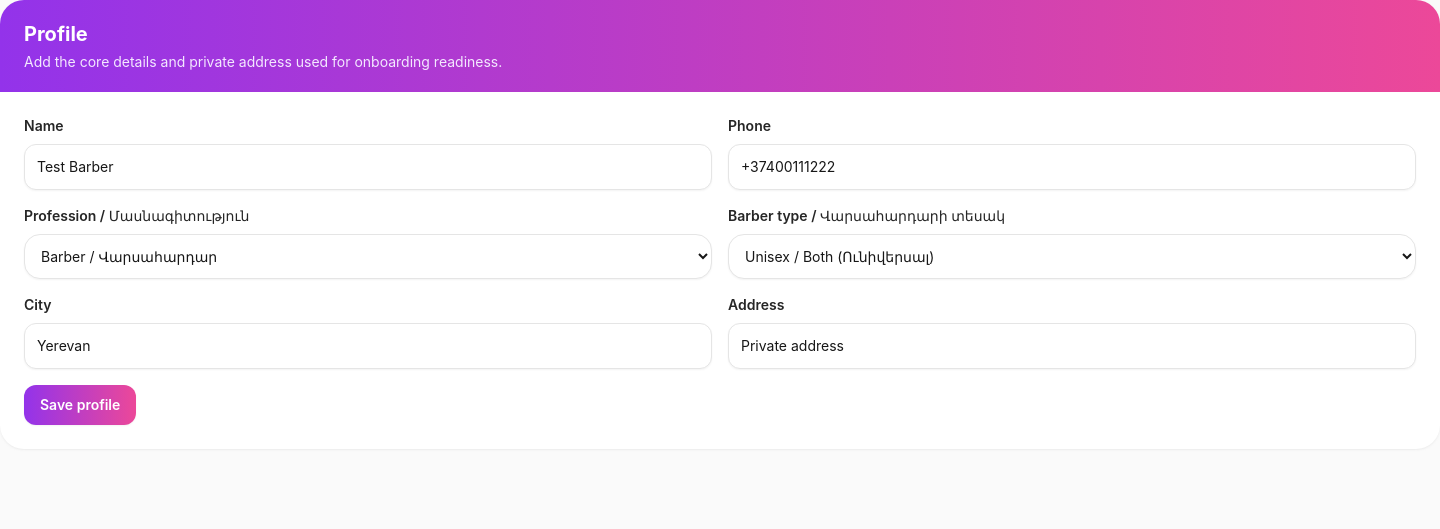
Scenario: ProfessionalBasicsStep onboarding validation › suppresses success when authoritative status still reports missing fields
Click the button "Save profile".
click(80, 405)  # box [24, 385, 136, 425]
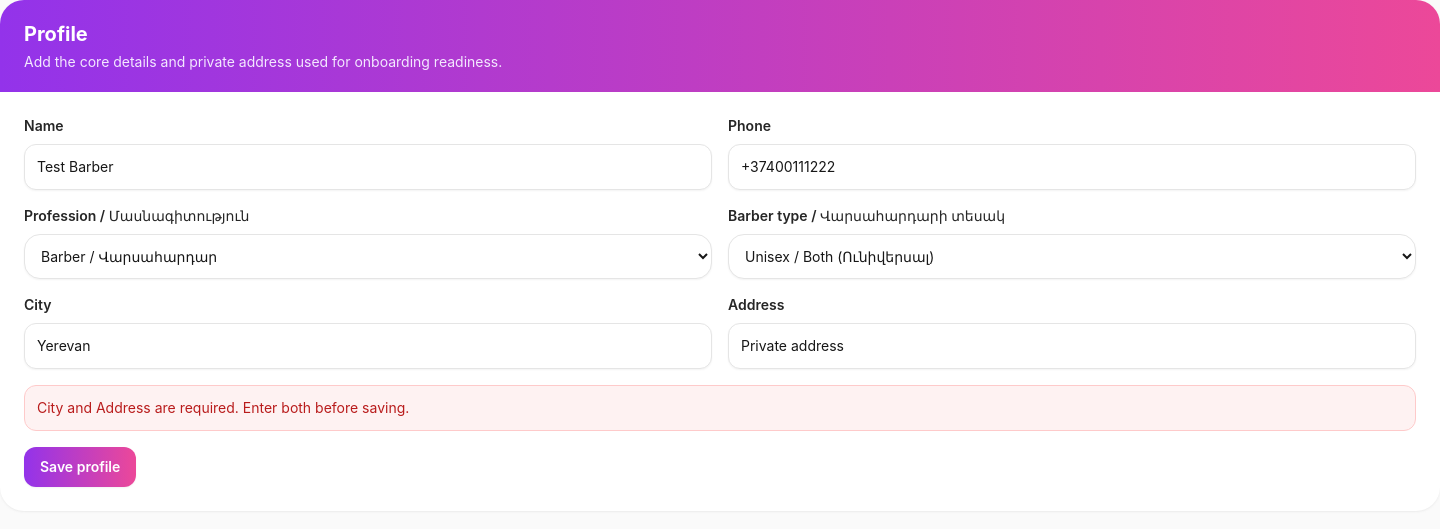
Expected: the text "City and Address are required. Enter both before saving." is shown, [24, 385, 1416, 431]
